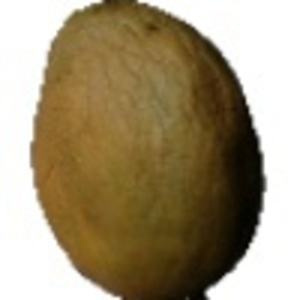mamão: (18, 2, 273, 294)
